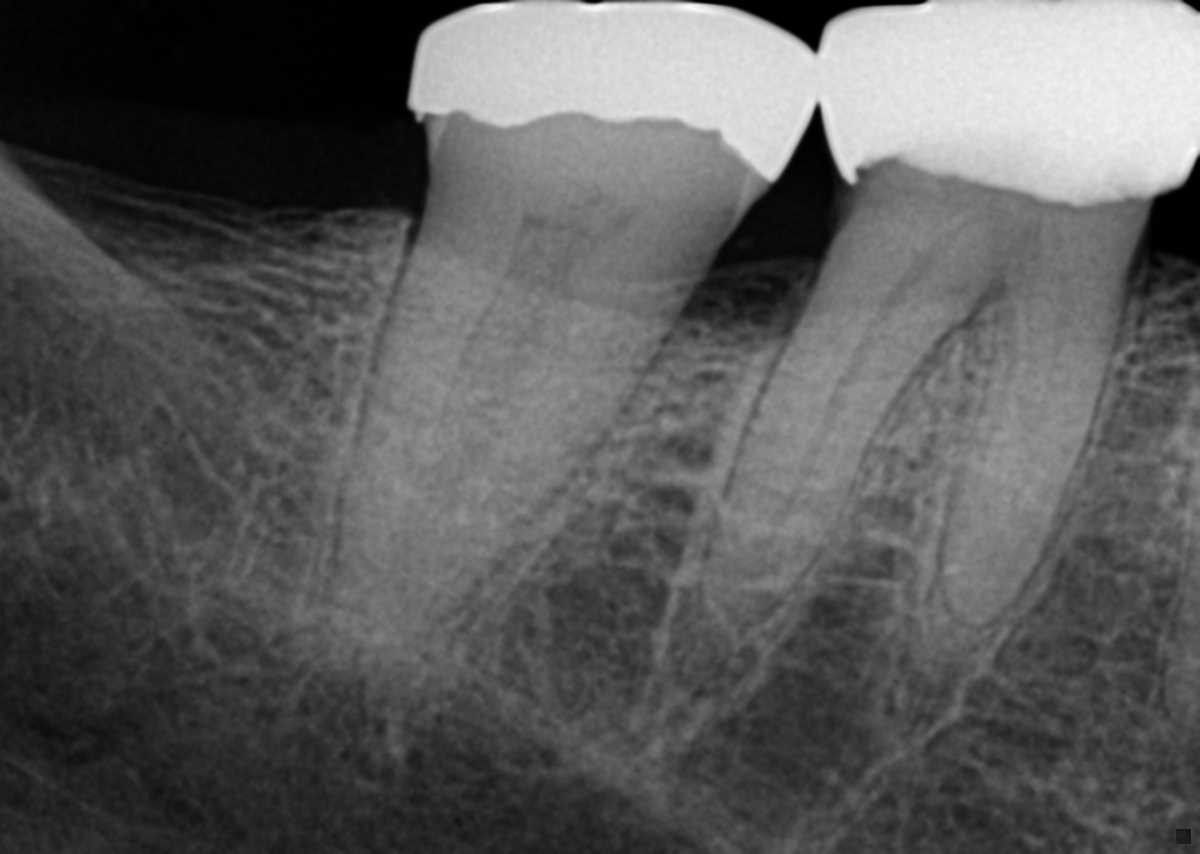Apical Lesion: (668, 592, 759, 699)
Distal Canal: (753, 269, 920, 569)
Distal Root: (698, 244, 977, 624)
Main Root: (325, 226, 682, 650)
Mesial Canal: (1019, 294, 1069, 474)
Mesial Root: (940, 284, 1126, 620)
